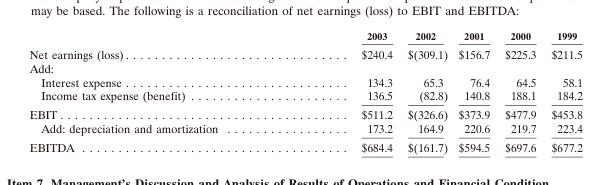table: (28, 29, 581, 154)
table column: (28, 29, 289, 154), (289, 29, 399, 154), (399, 29, 452, 154), (496, 29, 543, 154), (452, 29, 496, 154), (543, 29, 581, 154)
table column header: (28, 29, 581, 44)
table projected row header: (28, 60, 581, 74)
table row: (28, 104, 581, 121), (28, 137, 581, 154), (28, 44, 581, 60), (28, 88, 581, 104), (28, 121, 581, 137), (28, 29, 581, 44), (28, 60, 581, 74), (28, 74, 581, 88)
